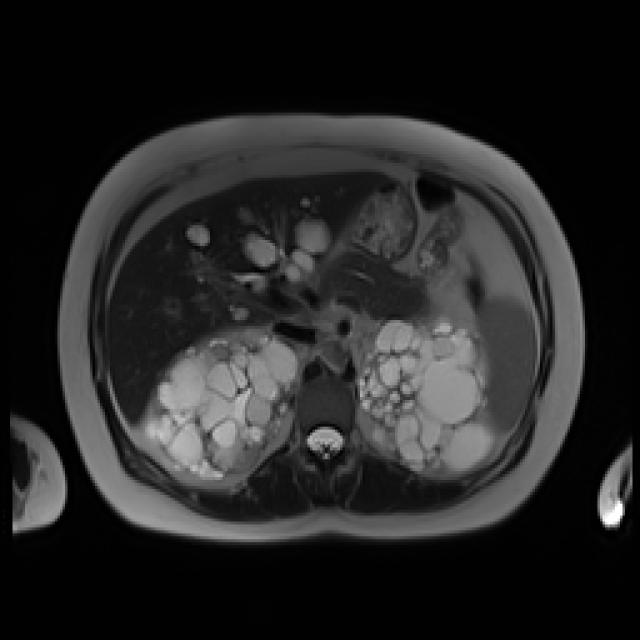sag: (137, 325, 303, 489)
sol: (354, 311, 501, 480)
